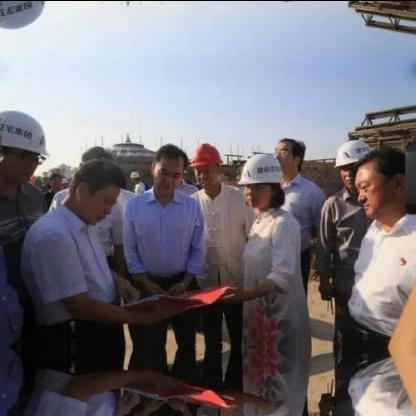Helmet: (0, 102, 47, 190), (238, 148, 284, 210), (189, 138, 223, 190), (0, 0, 48, 34), (330, 136, 362, 186), (128, 167, 140, 183)
No Helmet: (69, 152, 123, 220), (350, 144, 404, 210), (151, 141, 187, 191), (270, 132, 306, 172), (78, 142, 108, 178)
